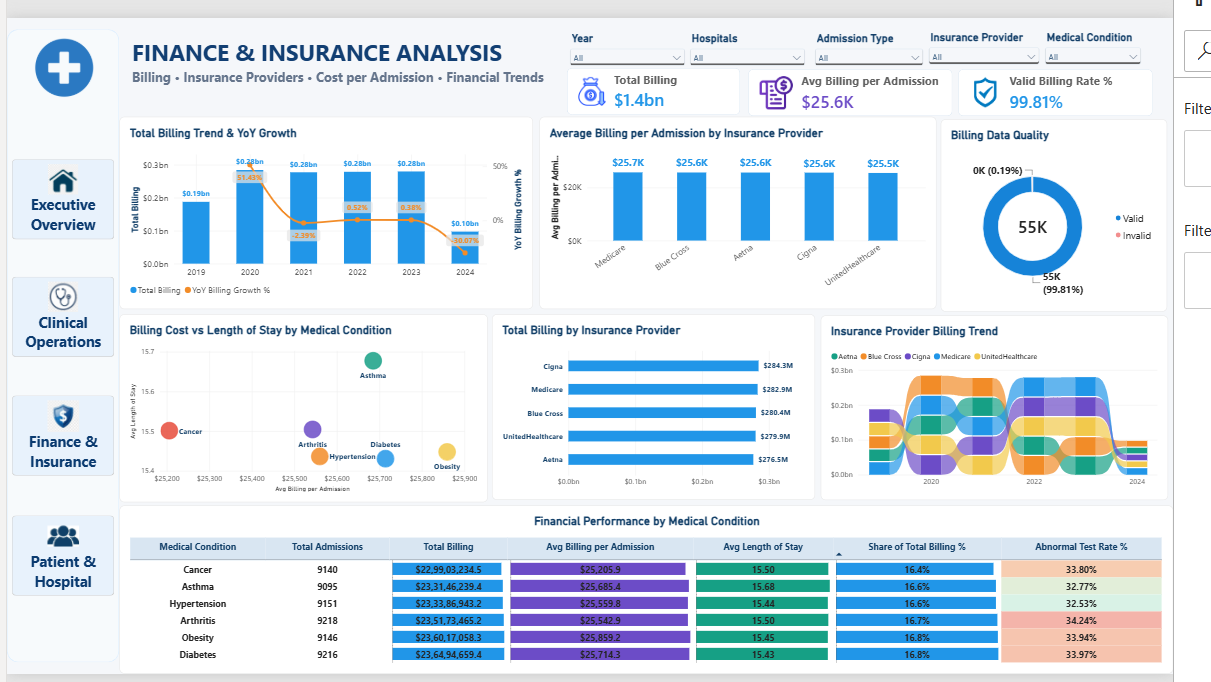

What the dashboard file says about the page in this screenshot:
{"tool":"powerbi","page":{"name":"Finance & Insurance","canvas":[1920,1080],"ordinal":2},"visuals":[{"type":"textbox","box":[206.3,30.8,637,79.6],"z":0},{"type":"textbox","box":[206.3,81.4,694.9,50.7],"z":1000},{"type":"cardVisual","fields":{"Data":["Fact_Admissions.Total Billing"]},"box":[921.1,83.2,285.9,77.8],"z":2000},{"type":"cardVisual","fields":{"Data":["Fact_Admissions.Avg Billing per Admission"]},"box":[1219.7,85.1,336.6,77.8],"z":3000},{"type":"cardVisual","fields":{"Data":["Fact_Admissions.Billing Data Quality %"]},"box":[1567.2,85.1,320.3,77.8],"z":4000},{"type":"clusteredColumnChart","title":"Average Billing per Admission by Insurance Provider","fields":{"Category":["Dim_Insurance.Insurance Provider"],"Y":["Fact_Admissions.Avg Billing per Admission"]},"box":[875.9,162.9,653.3,316.7],"z":5000},{"type":"scatterChart","title":"Billing Cost vs Length of Stay by Medical Condition","fields":{"Series":["Dim_MedicalCondition.Medical Condition"],"Size":["Fact_Admissions.Total Admissions"],"X":["Fact_Admissions.Avg Billing per Admission"],"Y":["Fact_Admissions.Avg Length of Stay"]},"box":[184.6,486.8,606.2,309.5],"z":6000},{"type":"shape","box":[0,18.1,184.6,1042.4],"z":7000},{"type":"actionButton","box":[7.2,231.6,168.3,132.1],"z":8000},{"type":"actionButton","box":[7.2,427.1,168.3,132.1],"z":9000},{"type":"actionButton","box":[7.2,622.5,168.3,132.1],"z":10000},{"type":"image","box":[23.5,25.3,143,114],"z":11000},{"type":"donutChart","title":"Billing Data Quality","fields":{"Category":["Fact_Admissions.Billing_Flag"],"Y":["Fact_Admissions.Billing Record Count"]},"box":[1538.2,166.5,372.8,316.7],"z":12000},{"type":"clusteredBarChart","title":"Total Billing by Insurance Provider","fields":{"Category":["Dim_Insurance.Insurance Provider"],"Y":["Fact_Admissions.Total Billing"]},"box":[798.1,488.6,532,305.8],"z":13000},{"type":"ribbonChart","title":"Insurance Provider Billing Trend","fields":{"Category":["Dim_Date.Year"],"Series":["Dim_Insurance.Insurance Provider"],"Y":["Fact_Admissions.Total Billing"]},"box":[1339.1,490.4,571.9,304],"z":14000},{"type":"lineClusteredColumnComboChart","title":"Total Billing Trend & YoY Growth","fields":{"Category":["Dim_Date.Year"],"Y":["Fact_Admissions.Total Billing"],"Y2":["Fact_Admissions.YoY Billing Growth %"]},"box":[184.6,162.9,680.4,316.7],"z":15000},{"type":"tableEx","title":"Financial Performance by Medical Condition","fields":{"Values":["Dim_MedicalCondition.Medical Condition","Fact_Admissions.Total Admissions","Fact_Admissions.Total Billing","Fact_Admissions.Avg Billing per Admission","Fact_Admissions.Avg Length of Stay","Fact_Admissions.Share of Total Billing %","Fact_Admissions.Abnormal Test Rate %"]},"box":[184.6,803.5,1735.5,276.9],"z":16000},{"type":"slicer","fields":{"Values":["Dim_Date.Year"]},"box":[921.1,21.7,199.1,74.2],"z":17000},{"type":"slicer","fields":{"Values":["Fact_Admissions.Hospitals"]},"box":[1120.2,21.7,199.1,74.2],"z":18000},{"type":"slicer","fields":{"Values":["Fact_Admissions.Admission Type"]},"box":[1324.7,21.7,188.2,56.1],"z":19000},{"type":"slicer","fields":{"Values":["Dim_Insurance.Insurance Provider"]},"box":[1512.9,19.9,191.8,57.9],"z":20000},{"type":"slicer","fields":{"Values":["Dim_MedicalCondition.Medical Condition"]},"box":[1704.7,19.9,168.3,57.9],"z":21000},{"type":"actionButton","box":[7.2,819.8,168.3,132.1],"z":21001}]}

Visuals, with their boxes on the page's 1920x1080 design canvas (x1, y1, x2, y2). These are canvas units, not pixel positions in the 1211x682 screenshot, which may show the page scaled, cropped or inside an application window:
textbox: 206,31,843,110
textbox: 206,81,901,132
cardVisual - Fact_Admissions.Total Billing: 921,83,1207,161
cardVisual - Fact_Admissions.Avg Billing per Admission: 1220,85,1556,163
cardVisual - Fact_Admissions.Billing Data Quality %: 1567,85,1888,163
"Average Billing per Admission by Insurance Provider" clusteredColumnChart: 876,163,1529,480
"Billing Cost vs Length of Stay by Medical Condition" scatterChart: 185,487,791,796
shape: 0,18,185,1060
actionButton: 7,232,176,364
actionButton: 7,427,176,559
actionButton: 7,622,176,755
image: 24,25,166,139
"Billing Data Quality" donutChart: 1538,166,1911,483
"Total Billing by Insurance Provider" clusteredBarChart: 798,489,1330,794
"Insurance Provider Billing Trend" ribbonChart: 1339,490,1911,794
"Total Billing Trend & YoY Growth" lineClusteredColumnComboChart: 185,163,865,480
"Financial Performance by Medical Condition" tableEx: 185,804,1920,1080
slicer - Dim_Date.Year: 921,22,1120,96
slicer - Fact_Admissions.Hospitals: 1120,22,1319,96
slicer - Fact_Admissions.Admission Type: 1325,22,1513,78
slicer - Dim_Insurance.Insurance Provider: 1513,20,1705,78
slicer - Dim_MedicalCondition.Medical Condition: 1705,20,1873,78
actionButton: 7,820,176,952
